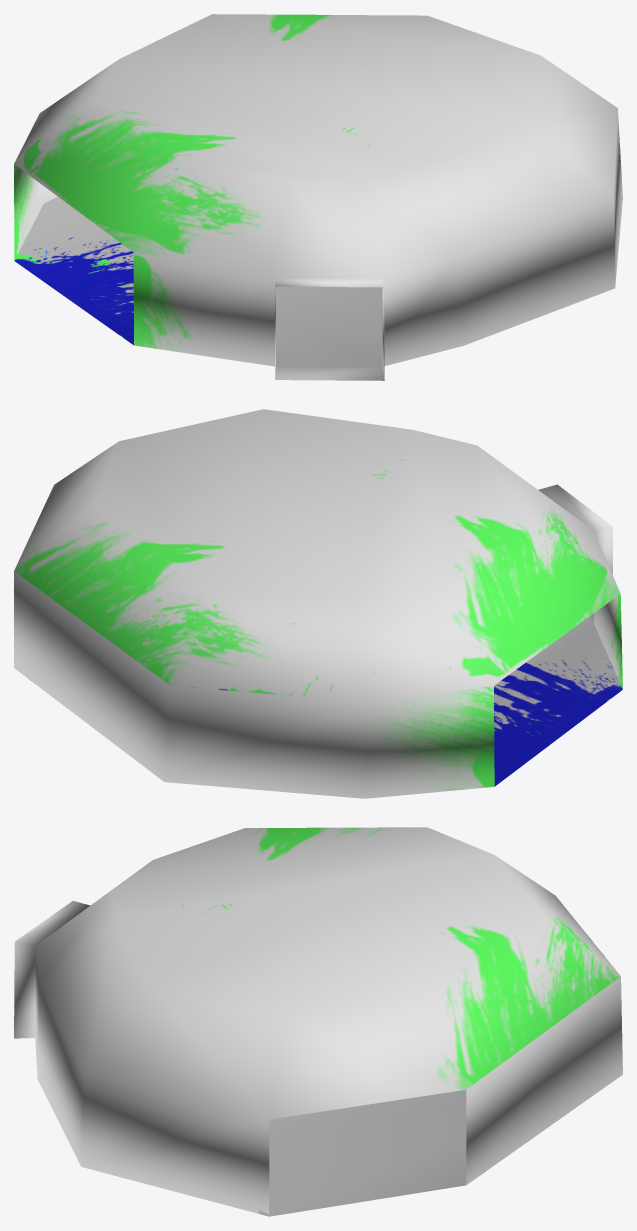
Rendered from LasstRoomNew.fbx.
The picture shows the model from 3 angles, top to bottom: view 1: azimuth 30°, elevation 25°; view 2: azimuth 150°, elevation 25°; view 3: azimuth 270°, elevation 25°; orthographic projection. The views are drawn at different scales.
Visible parts, largest first — view 1: Letzter_raum; view 2: Letzter_raum; view 3: Letzter_raum.
Part boxes in pixels (bbox=[...]): Letzter_raum: bbox=[14, 14, 622, 380]; Letzter_raum: bbox=[14, 409, 622, 798]; Letzter_raum: bbox=[14, 827, 622, 1216].
Bounding box in the file's own units: 12.47 × 3.69 × 12.24.
